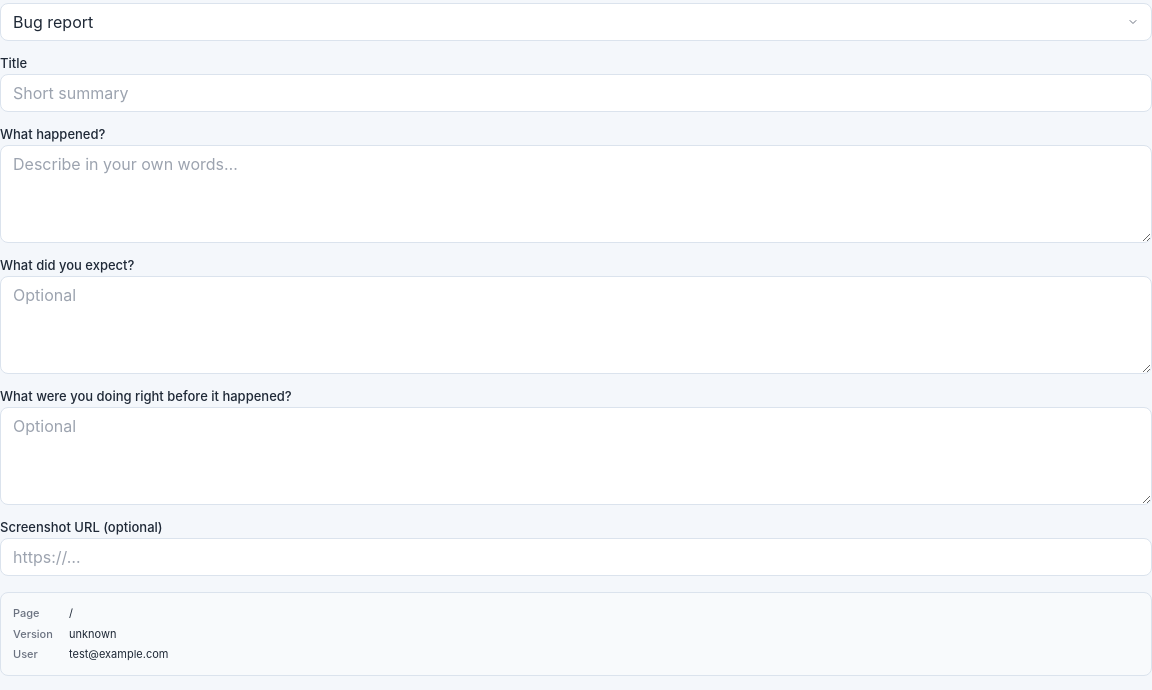
FeedbackForm › shows submitting state during submission
The image size is (1152, 690).
In the field labelled "Title": [576, 93] box 0,74 -> 1151,112, type "Test title"
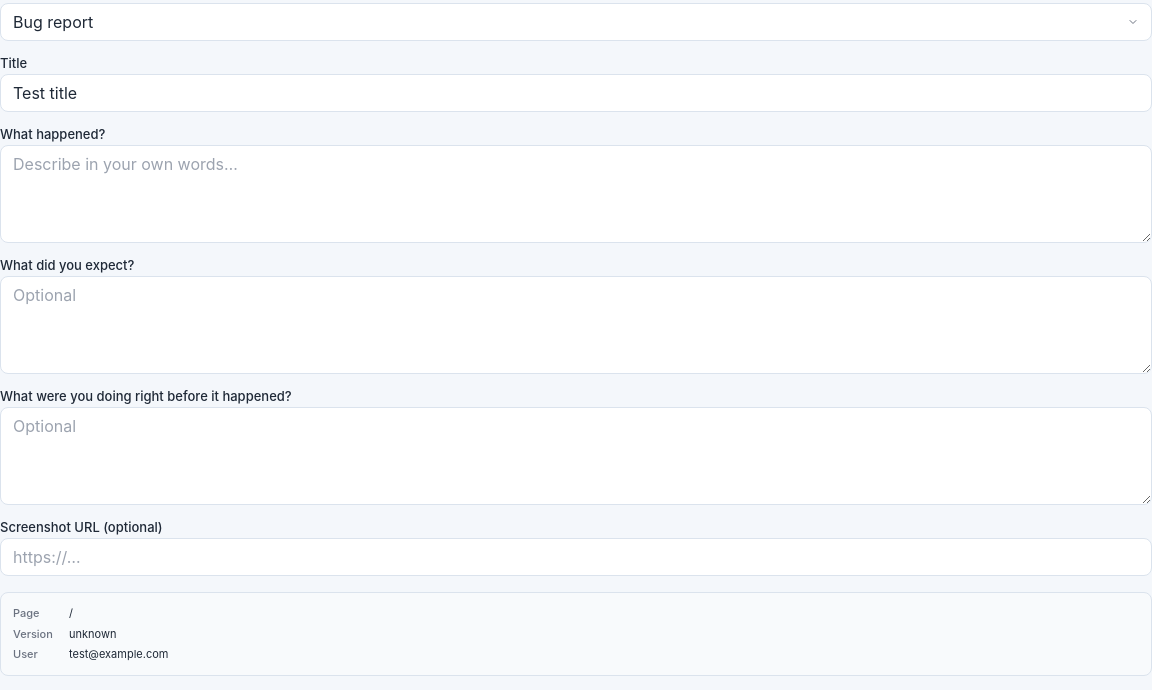
In the text box labelled "What happened?": [576, 194] box 0,145 -> 1151,243, type "Test answer"
(page scrolled)
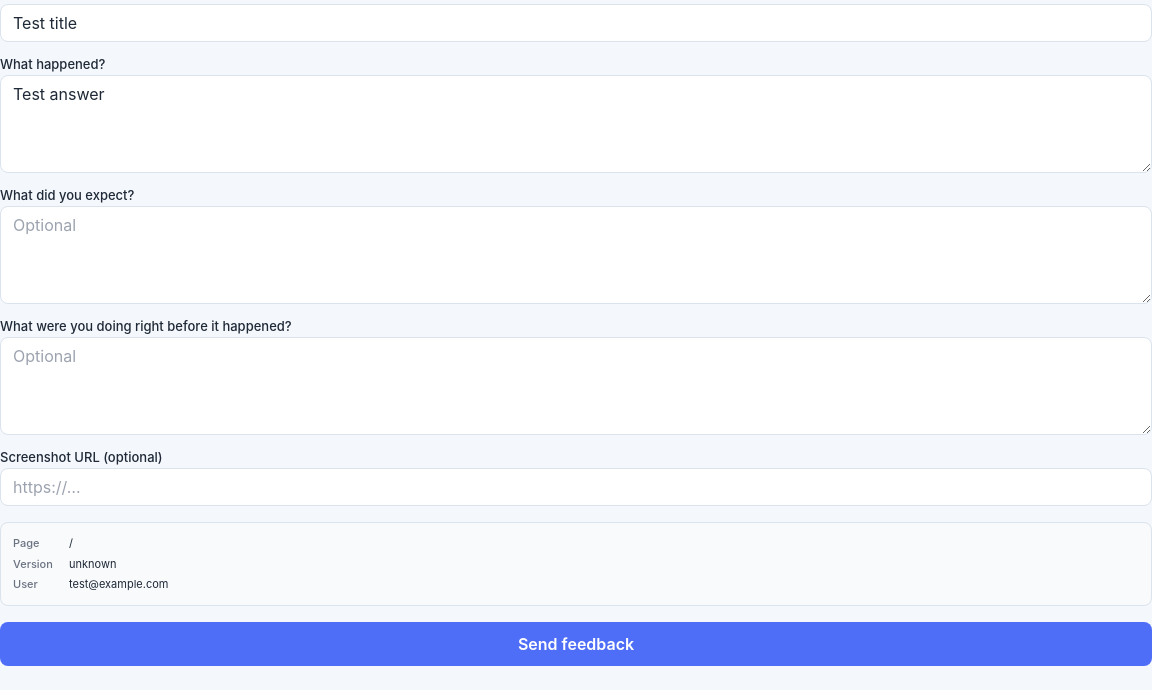
Click the button "Send feedback": [576, 644] box 0,622 -> 1151,666
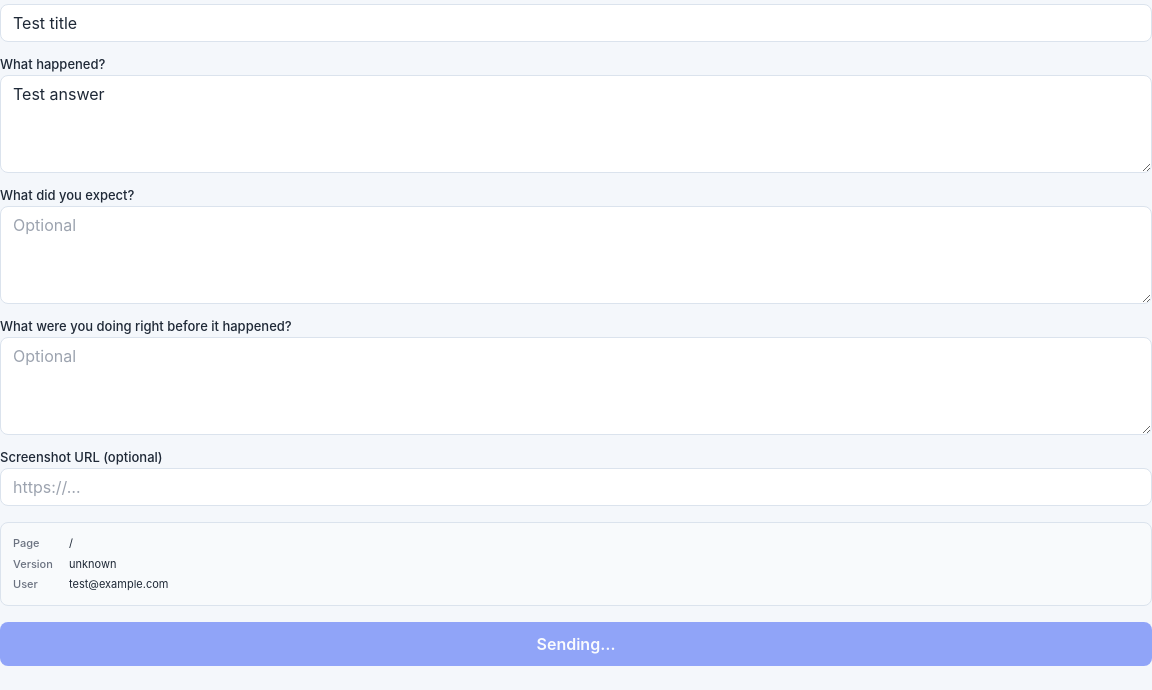
Result: the button "Sending…" is shown at 0,622 -> 1151,666
